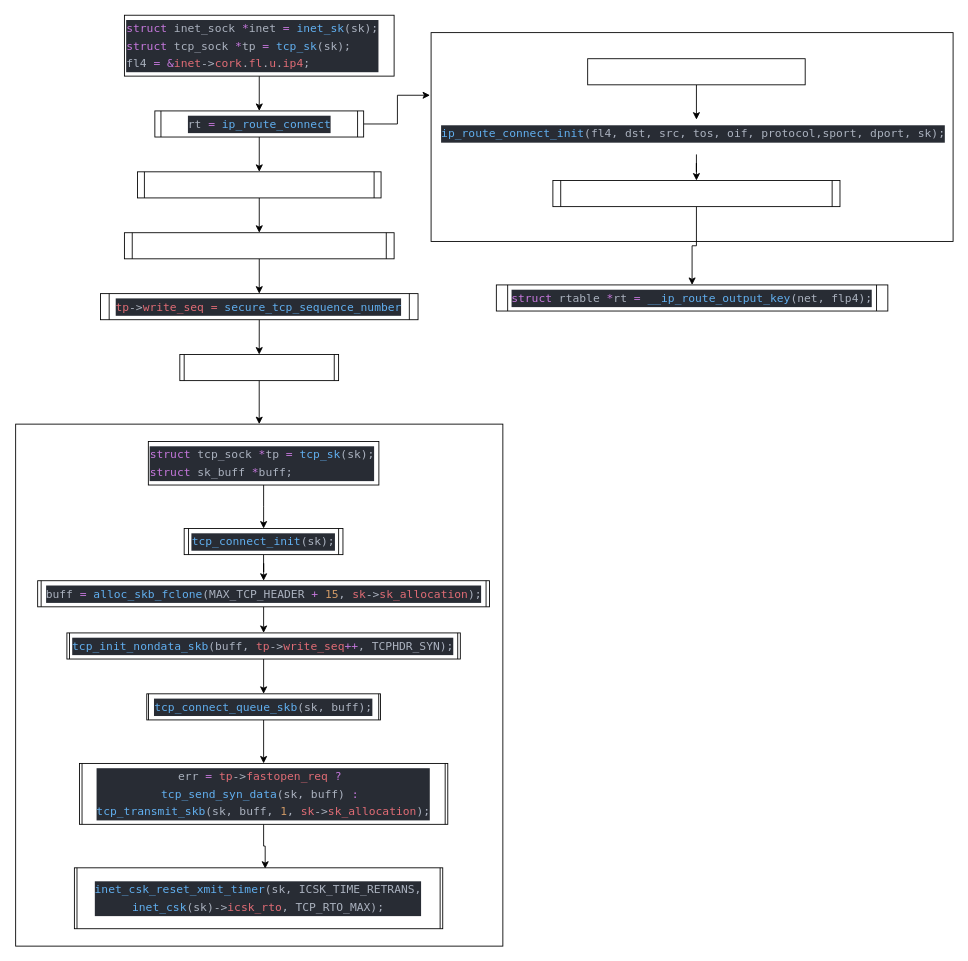
Image size: 968x961. Some labels were removed from this diagram. Each missing label, with the centre of its shape:
"inet_hash_connect ( & tcp_death_row, sk)" belongs at [259,245].
"ip_route_output_flow (net, fl4, sk);" belongs at [696,193].
"struct net * net = sock_net (sk);" belongs at [696,71].
"tcp_connect (sk);" belongs at [259,367].
"tcp_set_state (sk, TCP_SYN_SENT);" belongs at [259,184].
